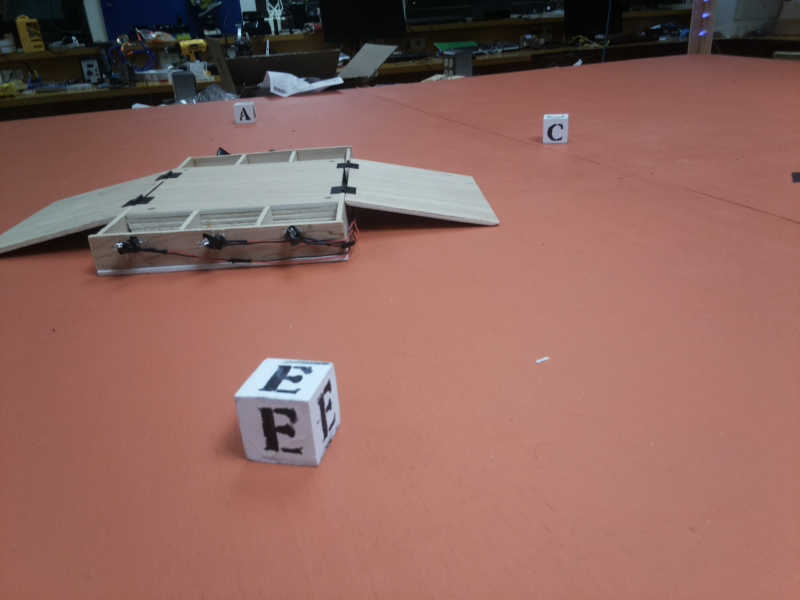blockA: (228, 99, 264, 125)
blockC: (539, 113, 575, 150)
blockE: (230, 350, 342, 473)
corner: (691, 7, 713, 55)
side: (2, 170, 176, 254), (88, 226, 355, 270), (179, 139, 355, 158)
slope: (340, 154, 497, 231)
start: (788, 165, 800, 183)
